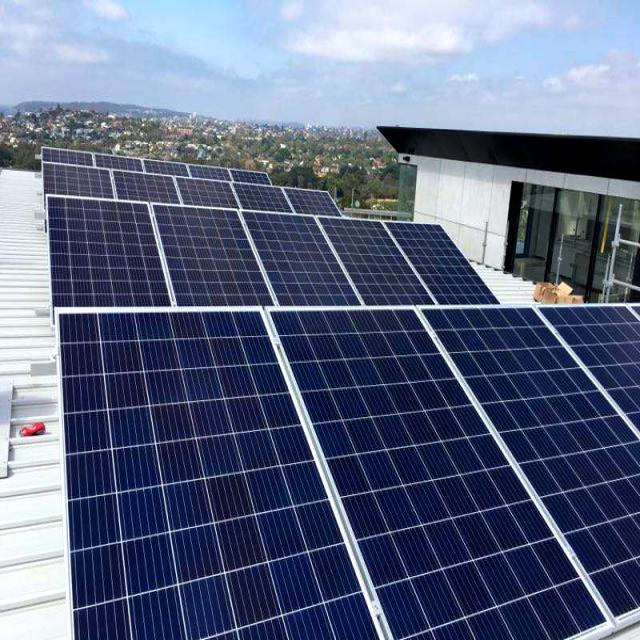crack: (59, 316, 352, 610), (416, 296, 640, 615), (280, 328, 505, 556), (145, 202, 285, 326), (42, 192, 175, 322), (305, 206, 446, 326), (378, 206, 510, 330), (233, 200, 365, 319), (109, 155, 187, 220), (38, 154, 118, 216), (162, 171, 253, 220)
